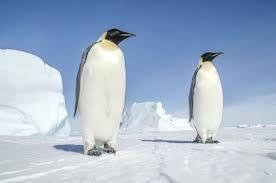emporer: (67, 22, 148, 165), (184, 47, 231, 148)
